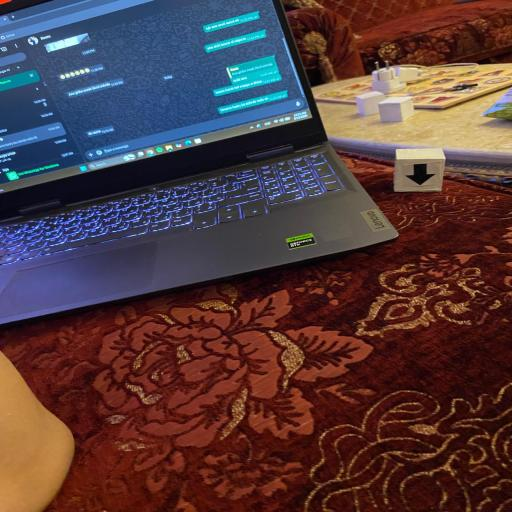Down: (392, 148, 445, 191)
